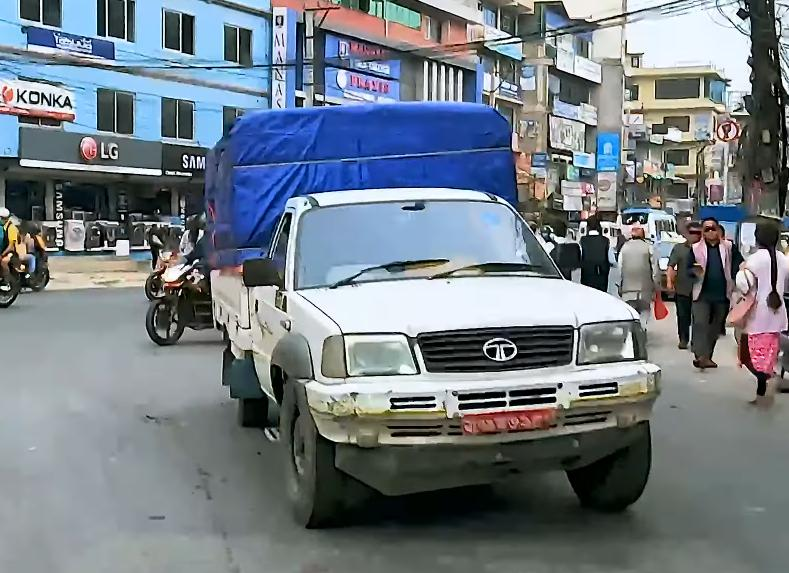bike: (142, 220, 219, 355), (0, 203, 57, 297)
bus: (613, 199, 682, 246)
transport_vehicle: (182, 86, 681, 537)
